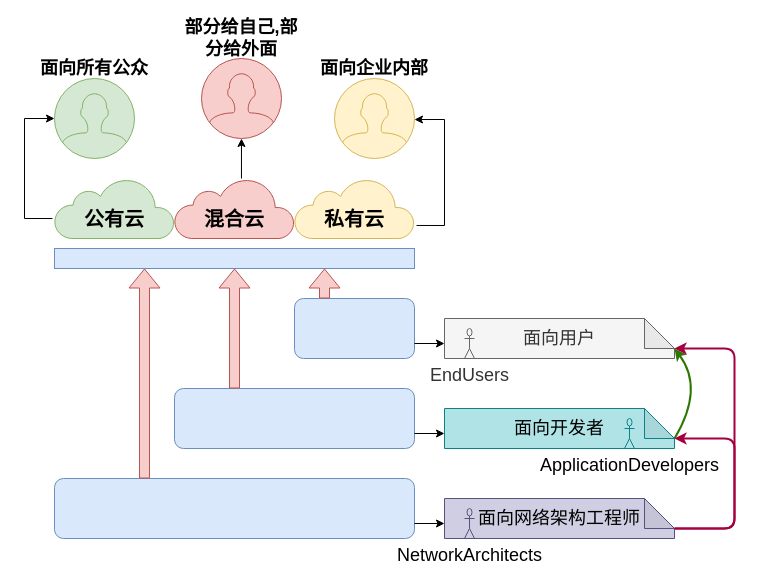
This 761x585 diagram has some shape labels left out. The centre of each missing label's shape, as x and y in pixels:
"基础设施层:基础设施即服务(IaaS)" goes at (234,508).
"平台层:平台即服务(PaaS)" goes at (294,418).
"应用层:软件即服务(SaaS)" goes at (354,328).
